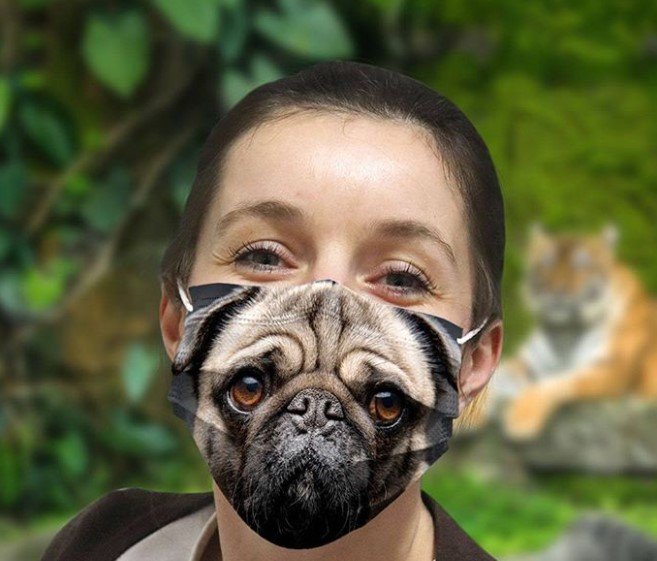face_with_mask: (149, 59, 518, 552)
